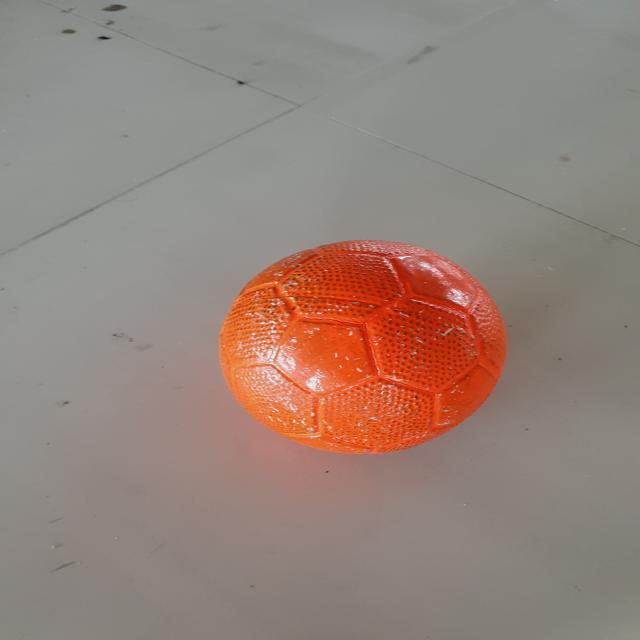bola: (206, 235, 516, 458)
